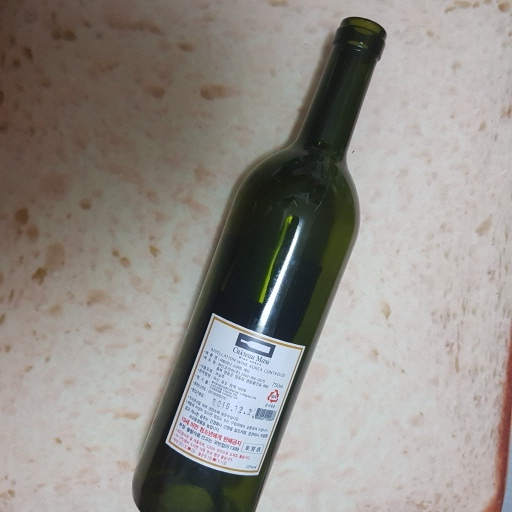Glass_2: (133, 16, 384, 511)
